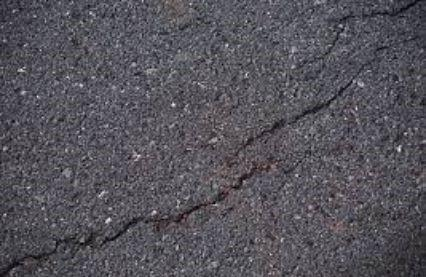crack: (0, 165, 266, 277), (236, 56, 379, 155), (304, 0, 426, 66)
